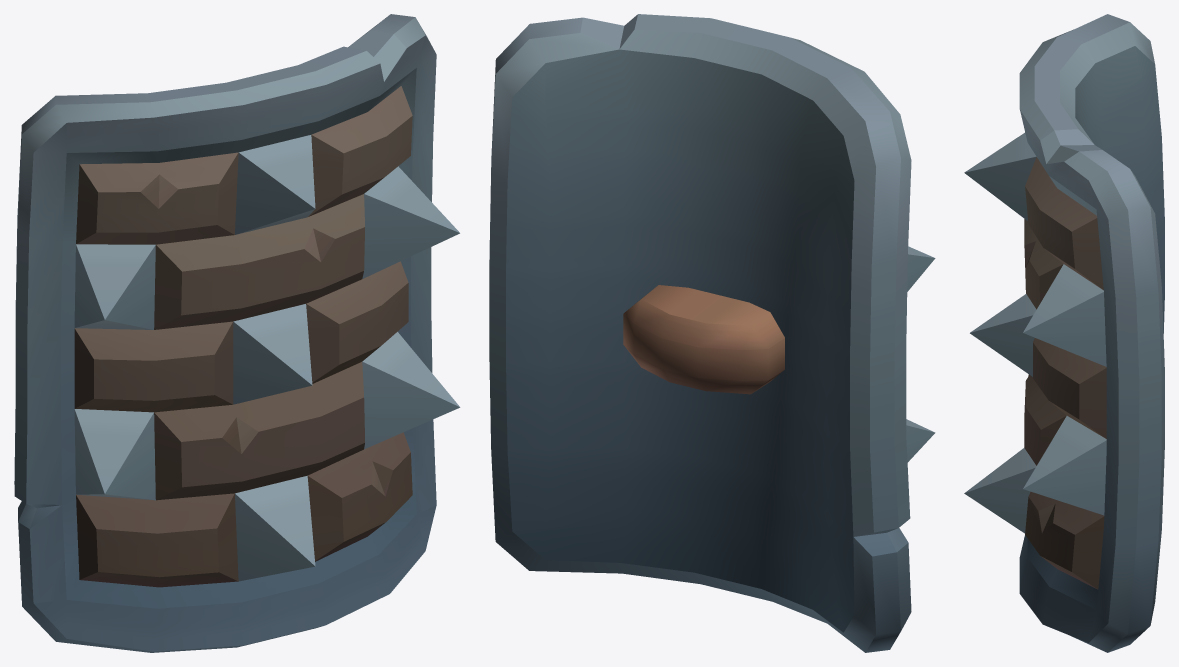
Rendered from shield_c.ea7d6424.glb.
3 views of the same model, side by side, from view 1: azimuth 30°, elevation 25°; view 2: azimuth 150°, elevation 25°; view 3: azimuth 270°, elevation 25° (orthographic). The views are drawn at different scales.
Parts seen in each view (by area): view 1: shield_C; view 2: shield_C; view 3: shield_C.
Part boxes in pixels (box(x1,y1,x2,y2)): shield_C: box(14, 14, 460, 652); shield_C: box(489, 14, 935, 652); shield_C: box(964, 14, 1164, 652).
Bounding box in the file's own units: 1.02 × 1.33 × 0.4847.
Materials: 1 (1 with a texture image).
